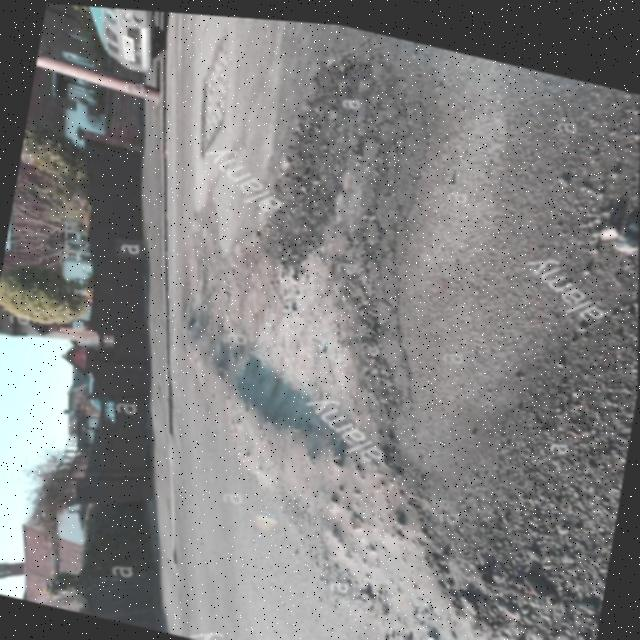Pothole: (254, 40, 431, 285), (447, 424, 626, 640), (174, 41, 250, 154)
